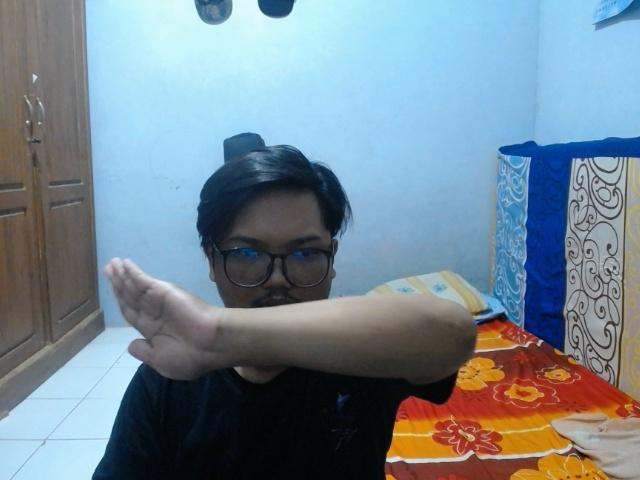Release: (99, 246, 222, 397)
